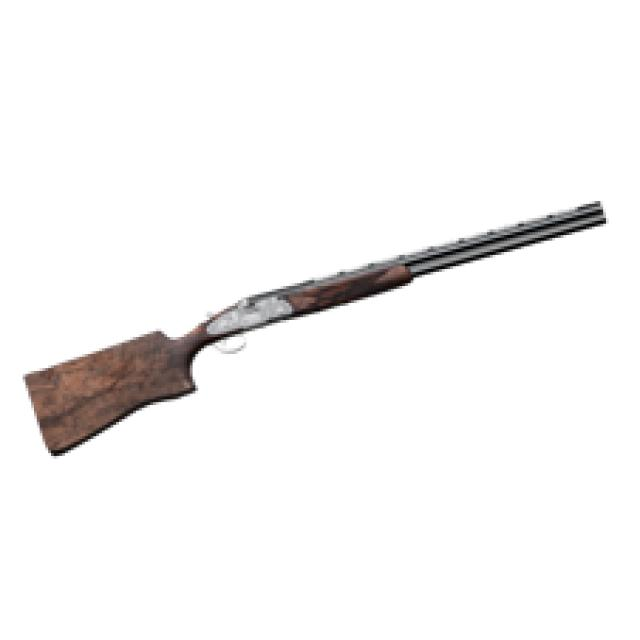rifle: (21, 195, 616, 464)
